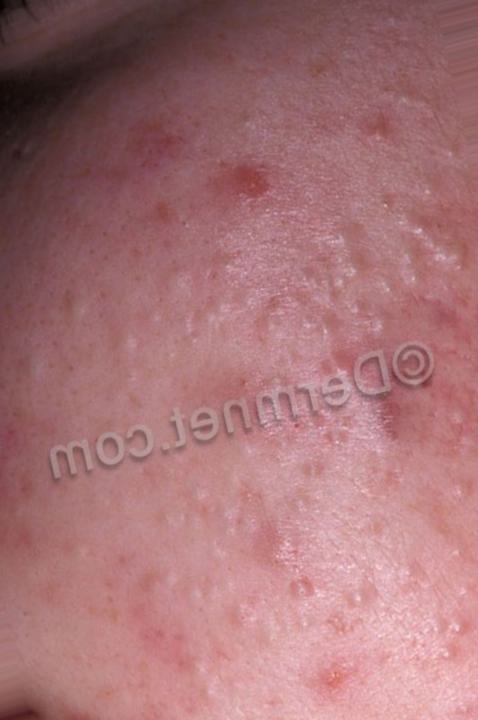Acne: (16, 97, 463, 695)
